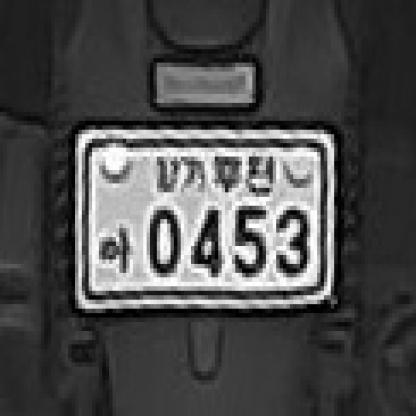bnum: (69, 120, 344, 316)
